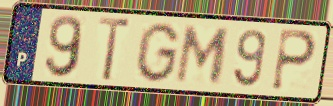9: (43, 14, 85, 80), (232, 28, 268, 89)
G: (132, 20, 182, 85)
M: (172, 23, 233, 86)
P: (269, 27, 319, 94)
T: (96, 15, 134, 84)
